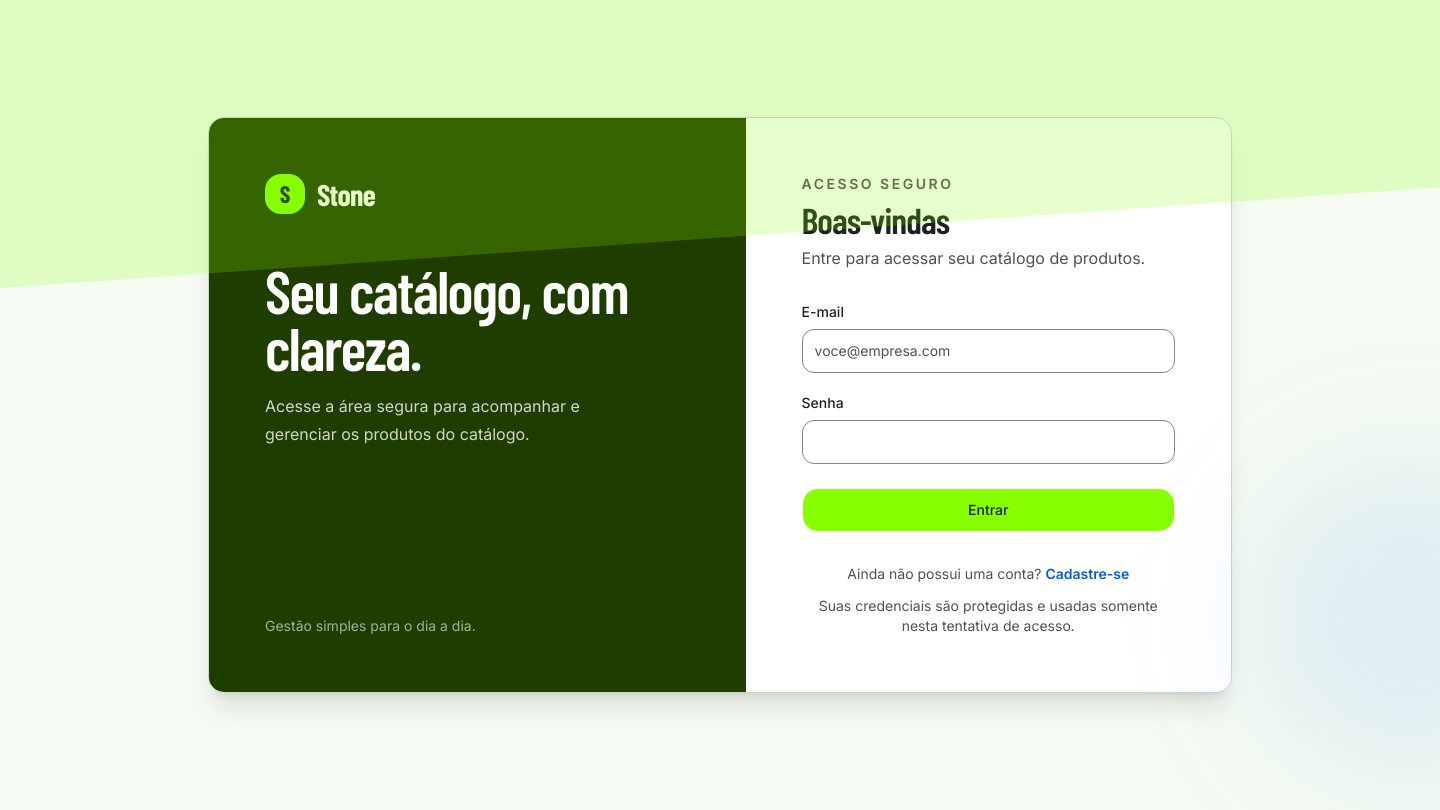
LoginScreen › orienta espera quando a API informa rate limit
Type "maria@example.com" into the field labelled "E-mail" at (988, 351), box top-left (802, 329), bottom-right (1175, 373)
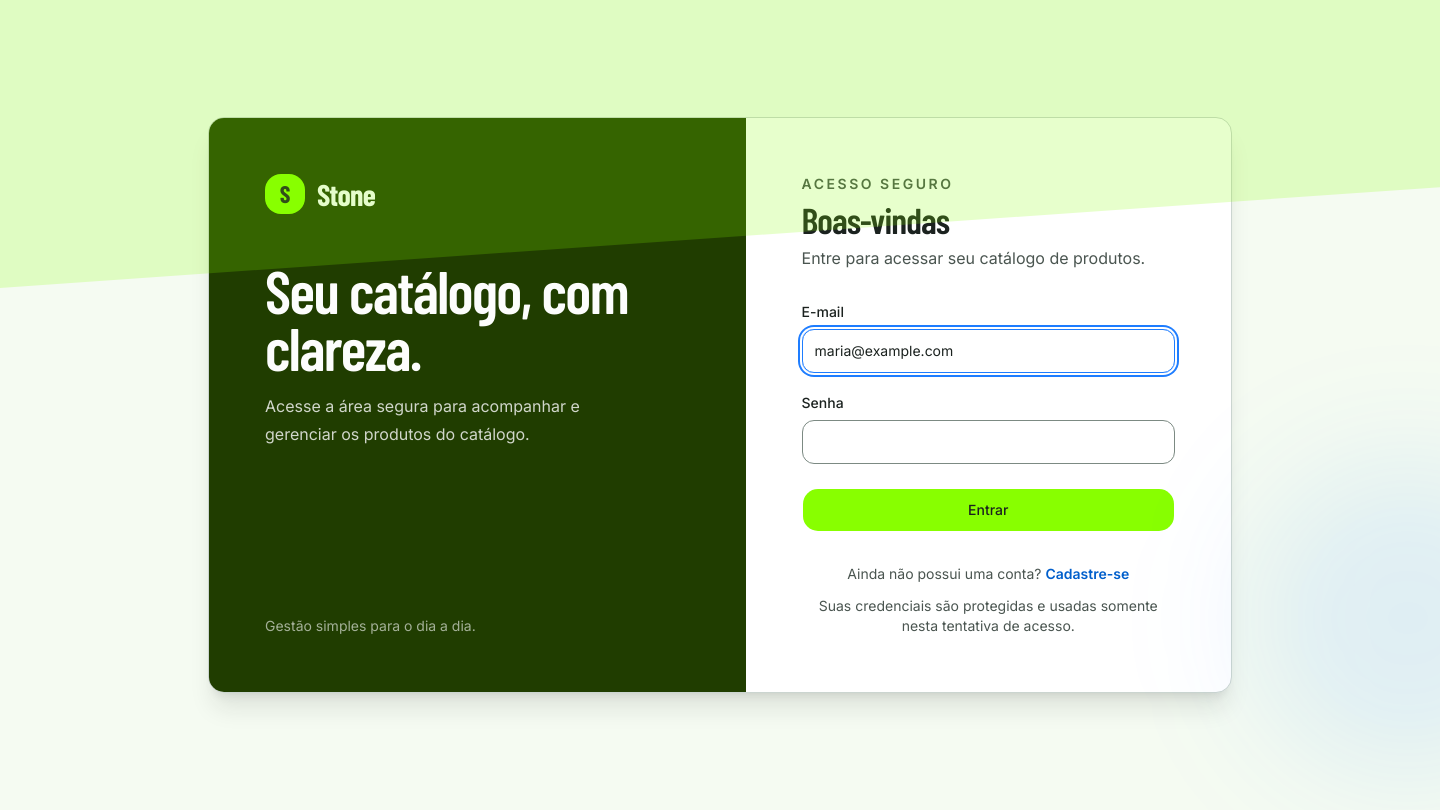
Type "senha-segura" into the password field labelled "Senha" at (988, 442), box top-left (802, 420), bottom-right (1175, 464)
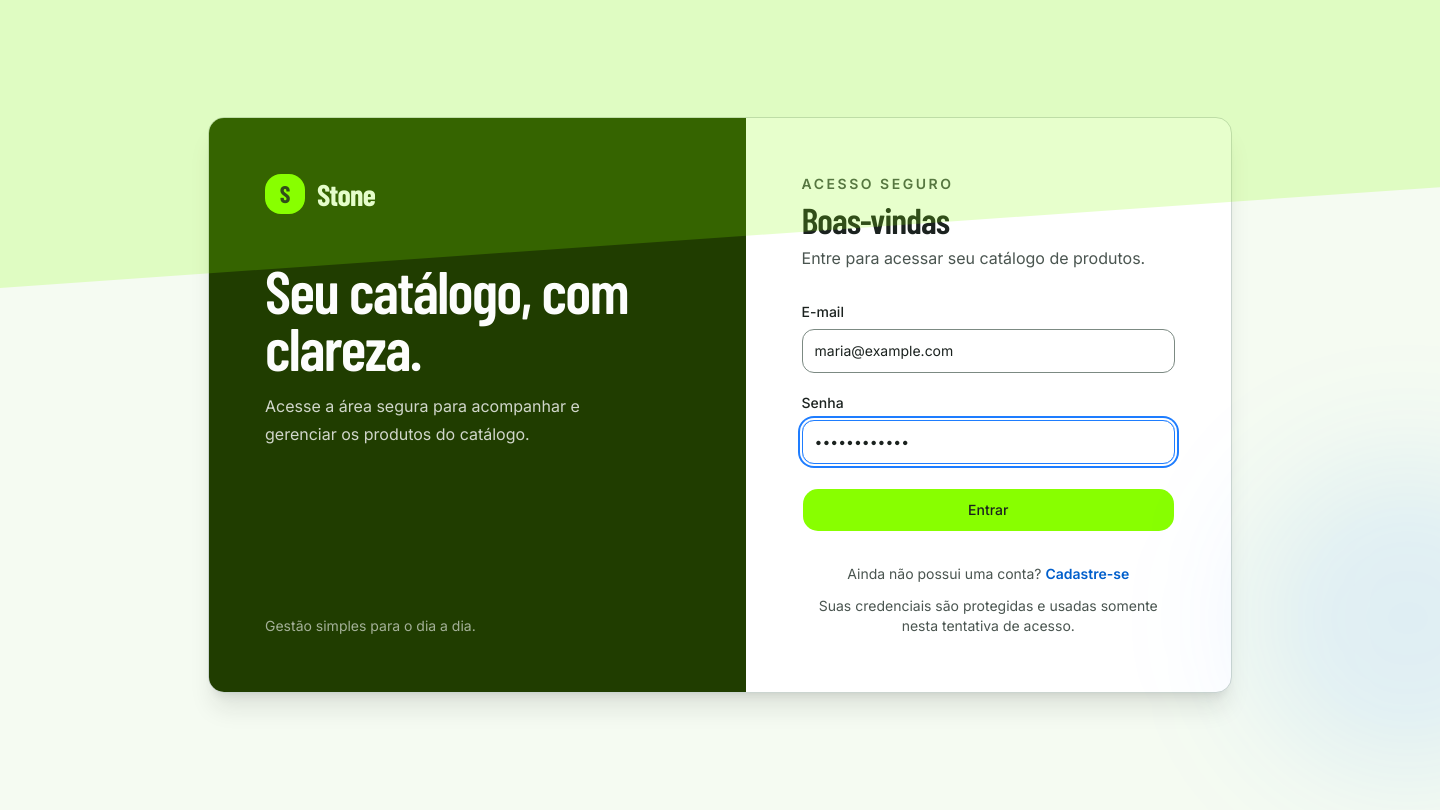
Click the button "Entrar" at (988, 510), box top-left (802, 488), bottom-right (1175, 532)
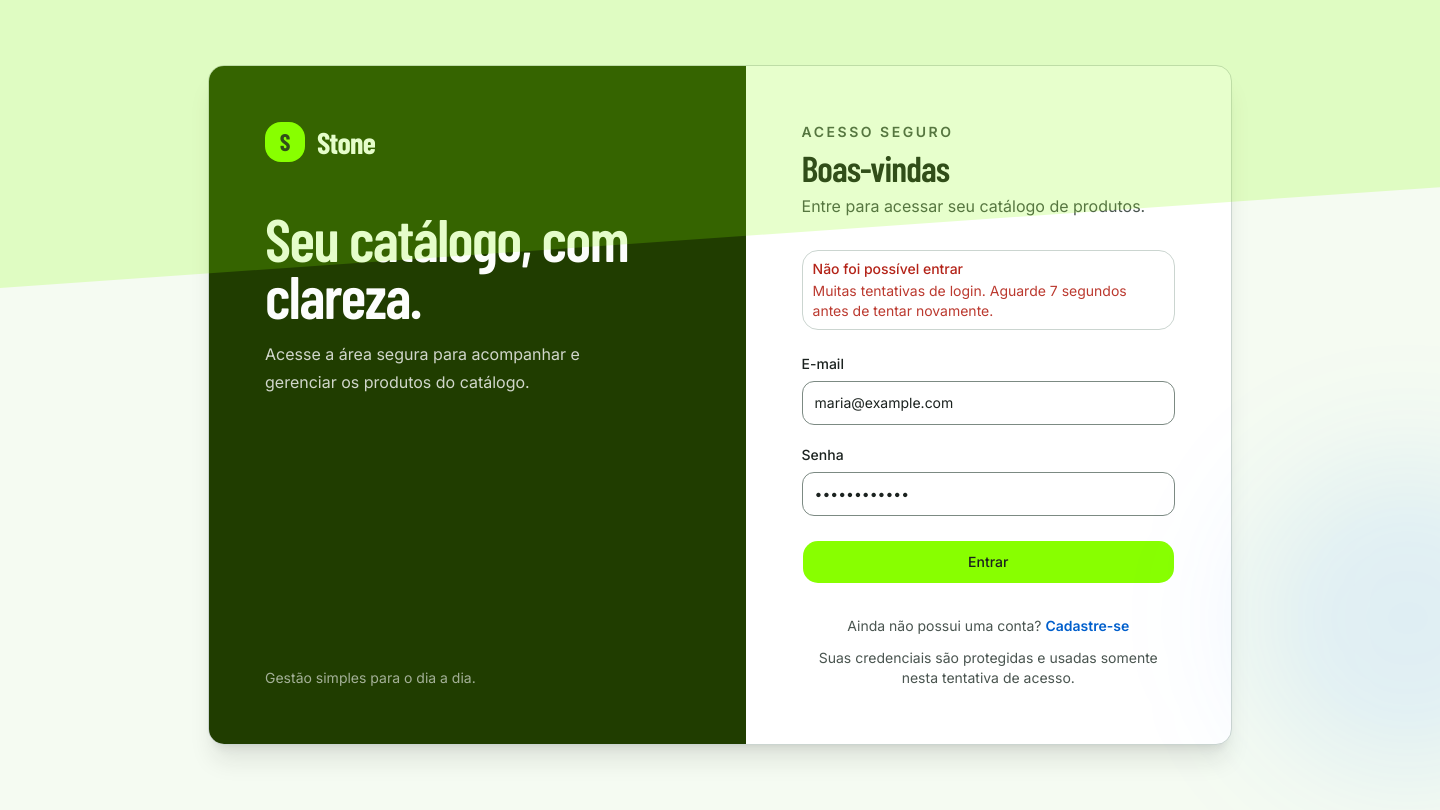
Expected: the message shows "Aguarde 7 segundos antes de tentar novamente.", top-left (812, 282), bottom-right (1127, 319)
